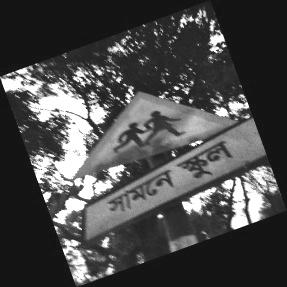School-in-front: (73, 90, 270, 247)
